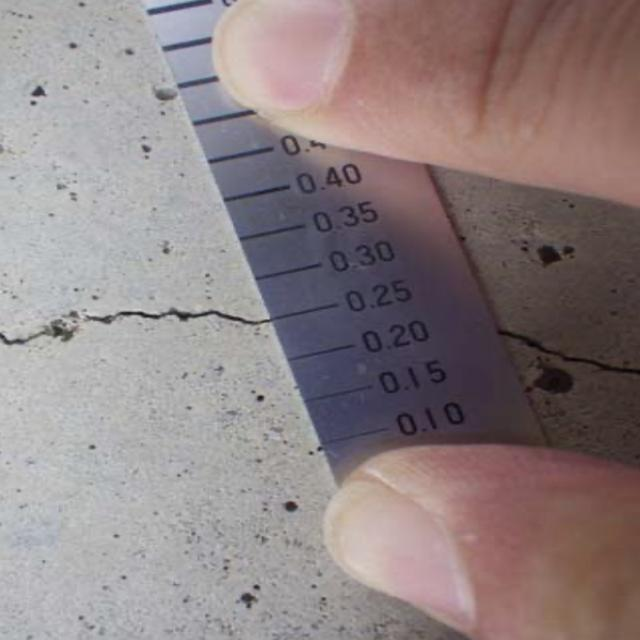crack: (3, 286, 268, 378), (498, 307, 638, 392)
